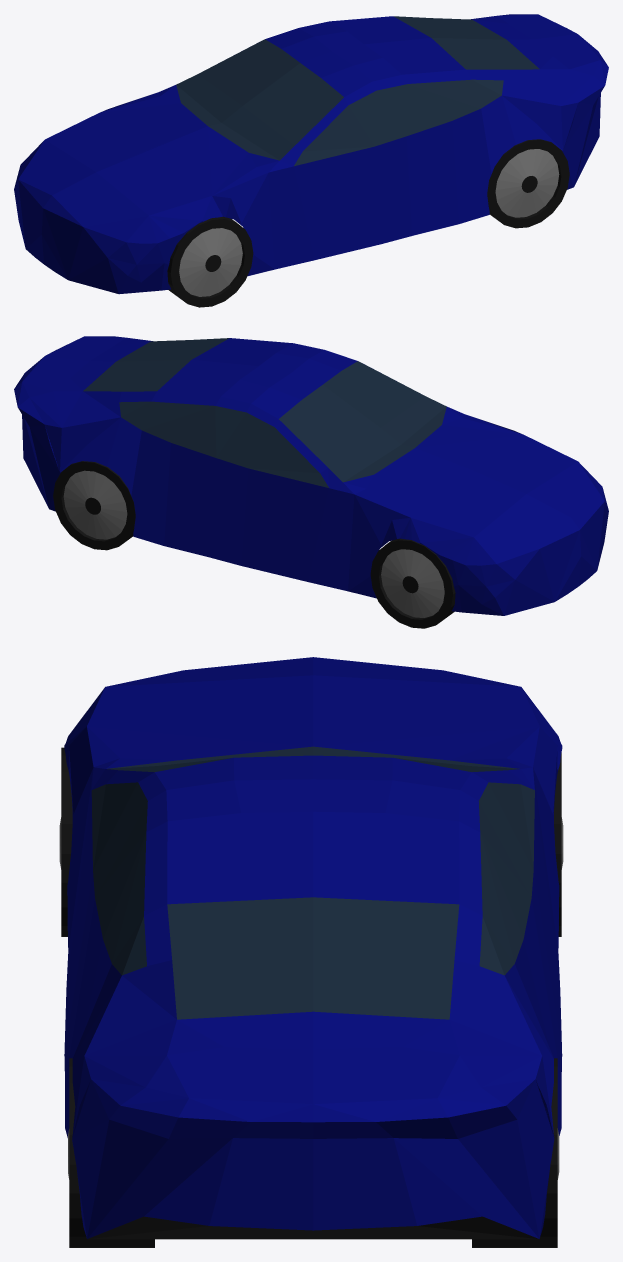
Rendered from bolid_bmw.fbx.
The picture shows the model from 3 angles, top to bottom: view 1: azimuth 30°, elevation 25°; view 2: azimuth 150°, elevation 25°; view 3: azimuth 270°, elevation 25°; orthographic projection. The views are drawn at different scales.
Visible parts, largest first — view 1: bolid_bmw8, wheel.012, wheel.013; view 2: bolid_bmw8, wheel.010, wheel.011; view 3: bolid_bmw8, wheel.011, wheel.013, wheel.012, wheel.010.
Part boxes in pixels (<box>): bolid_bmw8: <box>14,14,608,294</box>; wheel.012: <box>167,216,253,307</box>; wheel.013: <box>487,139,569,228</box>; bolid_bmw8: <box>14,336,608,615</box>; wheel.010: <box>370,538,455,628</box>; wheel.011: <box>53,461,135,550</box>; bolid_bmw8: <box>64,657,562,1239</box>; wheel.011: <box>472,1058,559,1247</box>; wheel.013: <box>68,1058,154,1247</box>; wheel.012: <box>59,747,72,936</box>; wheel.010: <box>554,752,563,936</box>.
Size of the model in its own units: 511 by 148 by 206.
